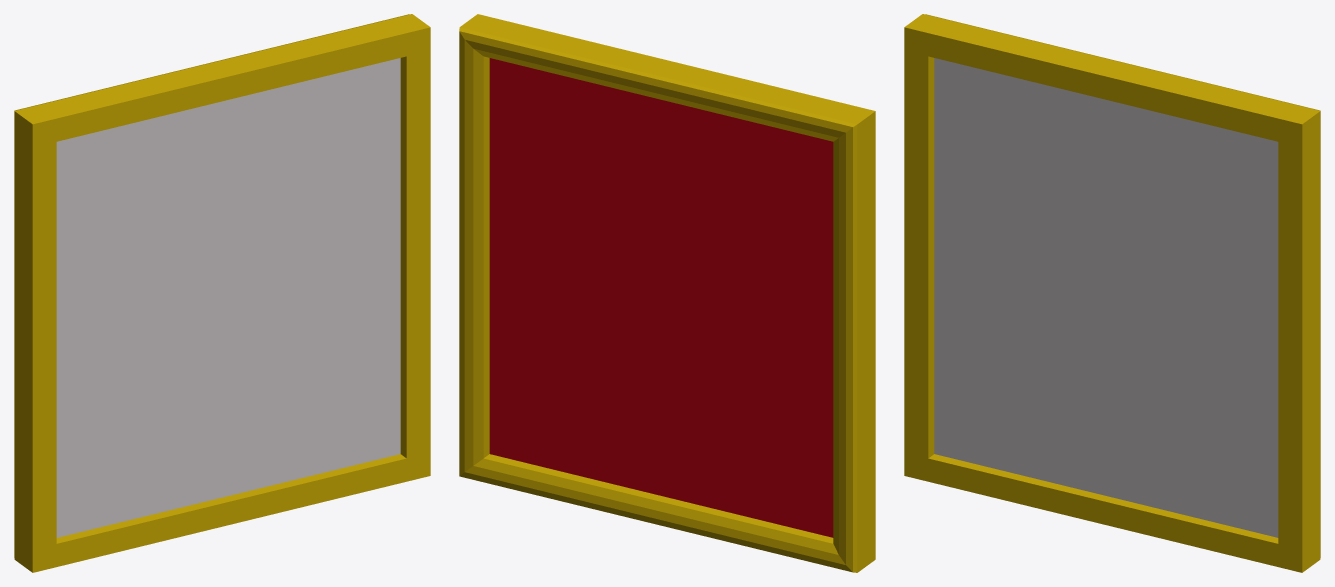
The model's file is mdl_painting.fbx.
3 views of the same model, side by side, from view 1: azimuth 30°, elevation 25°; view 2: azimuth 150°, elevation 25°; view 3: azimuth 330°, elevation 25° (orthographic).
Visible parts, largest first — view 1: mdl_painting; view 2: mdl_painting; view 3: mdl_painting.
Part boxes in pixels (left/top/right/bottom): mdl_painting: left=14, top=14, right=430, bottom=572; mdl_painting: left=459, top=14, right=875, bottom=572; mdl_painting: left=904, top=14, right=1320, bottom=572.
Size of the model in its own units: 0.7558 by 0.8143 by 0.0701.
